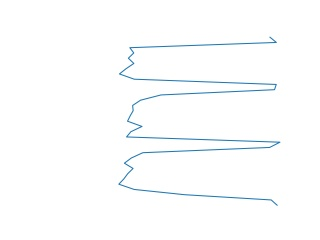majorRiverChannelBar: (116, 36, 286, 206)
